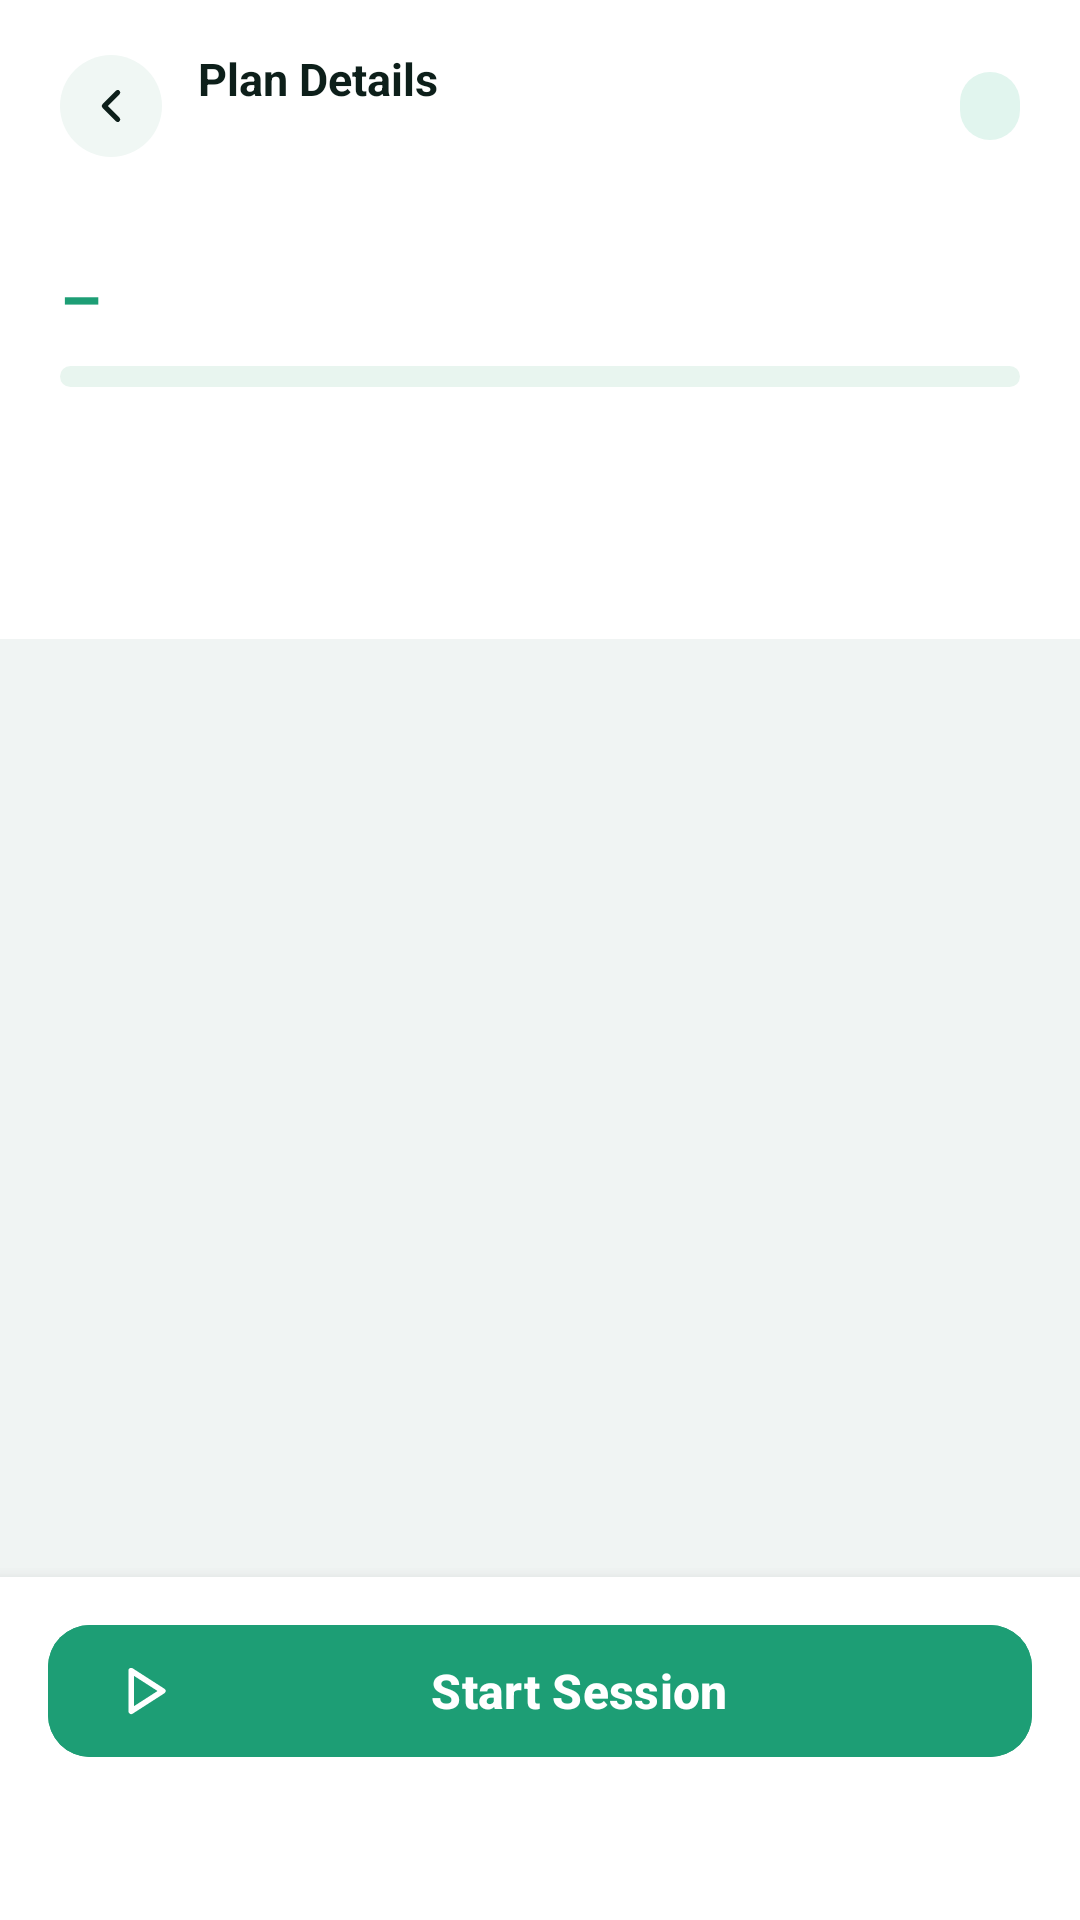

Point at icon controls on the screen. Image size 1080px×1920px, points as [x,y].
Back: [111,106]
